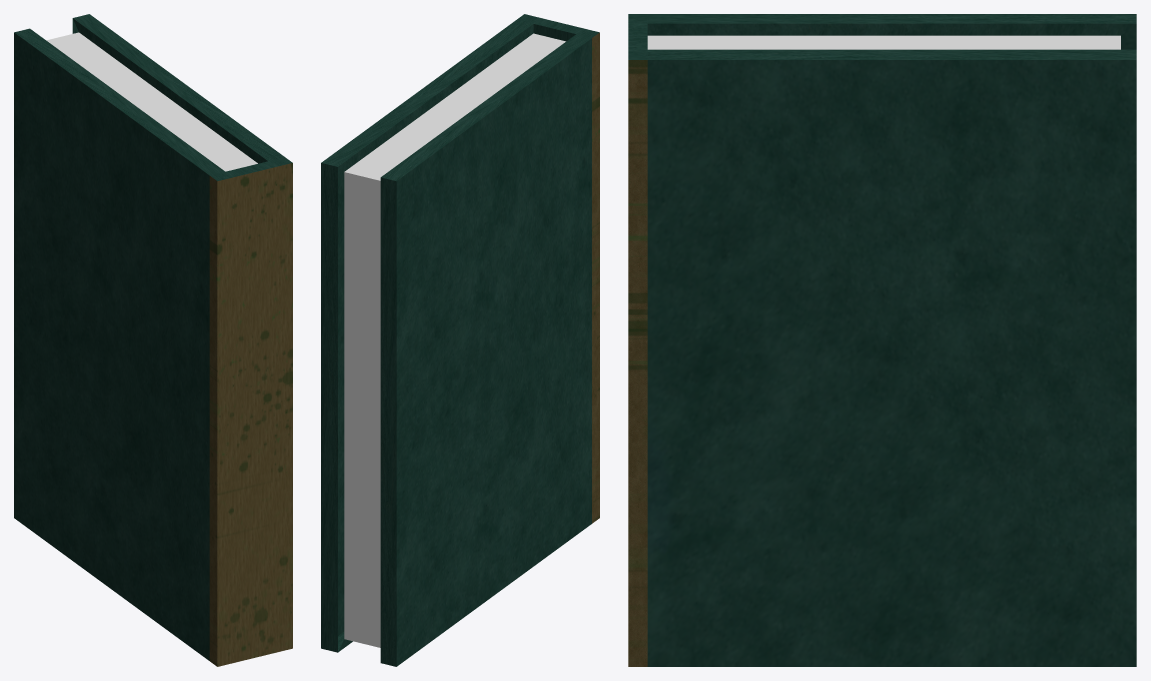
The model's file is libro.fbx.
3 views of the same model, side by side, from view 1: azimuth 30°, elevation 25°; view 2: azimuth 150°, elevation 25°; view 3: azimuth 270°, elevation 25° (orthographic). The views are drawn at different scales.
Visible parts, largest first — view 1: Cube.001; view 2: Cube.001; view 3: Cube.001.
Boxes of the visible parts, x1=… form: Cube.001: x1=14, y1=14, x2=292, y2=666; Cube.001: x1=321, y1=14, x2=599, y2=666; Cube.001: x1=628, y1=14, x2=1136, y2=666.
Size of the model in its own units: 176 by 1083 by 822.
